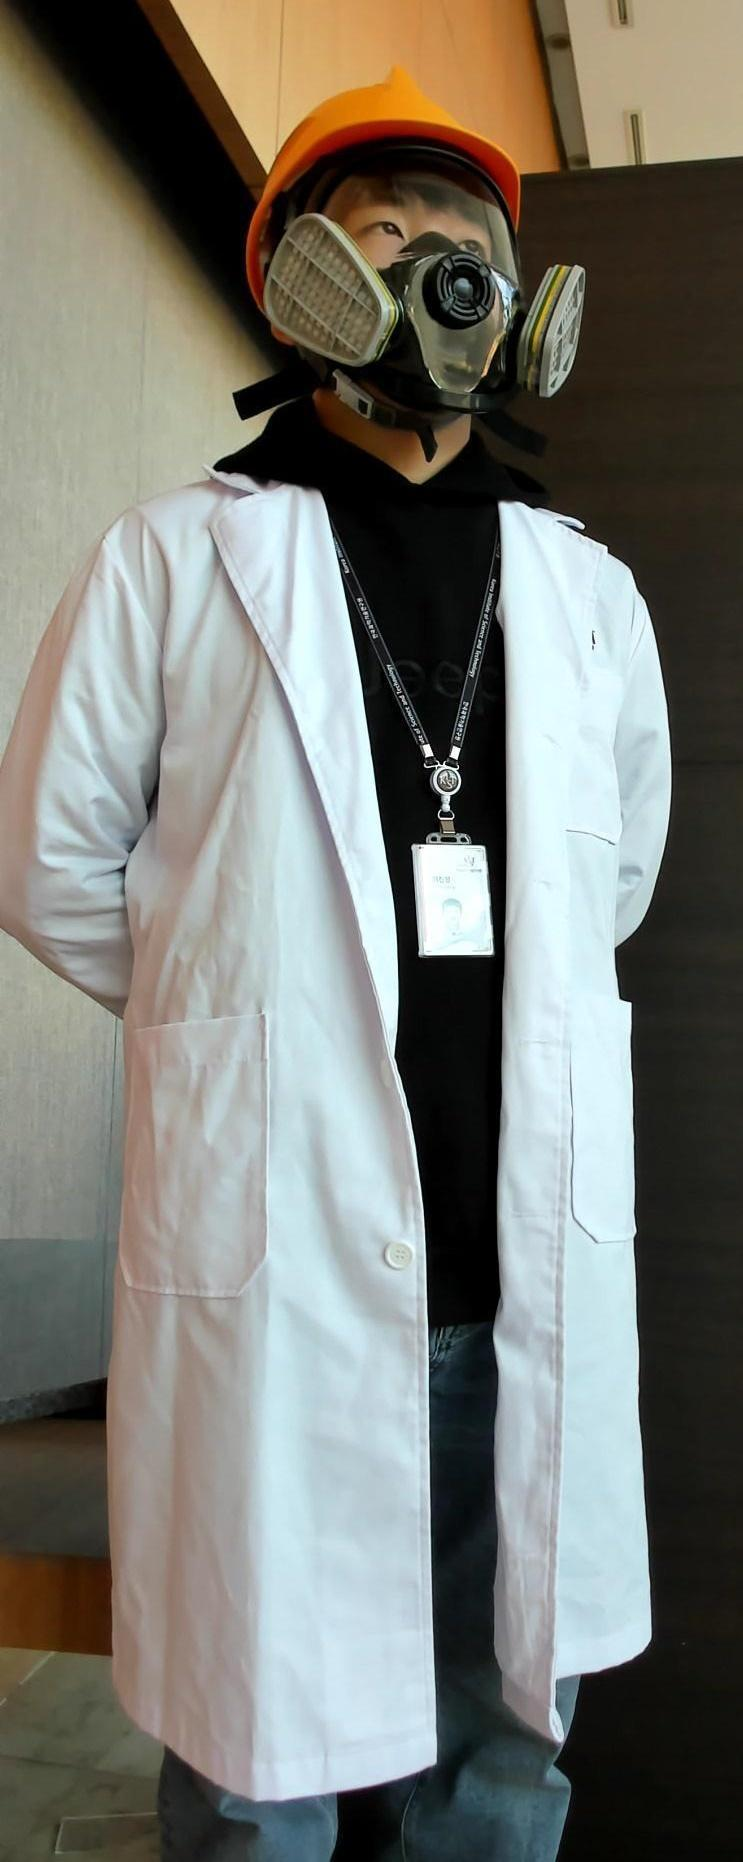lab_coat: (11, 503, 718, 1718)
